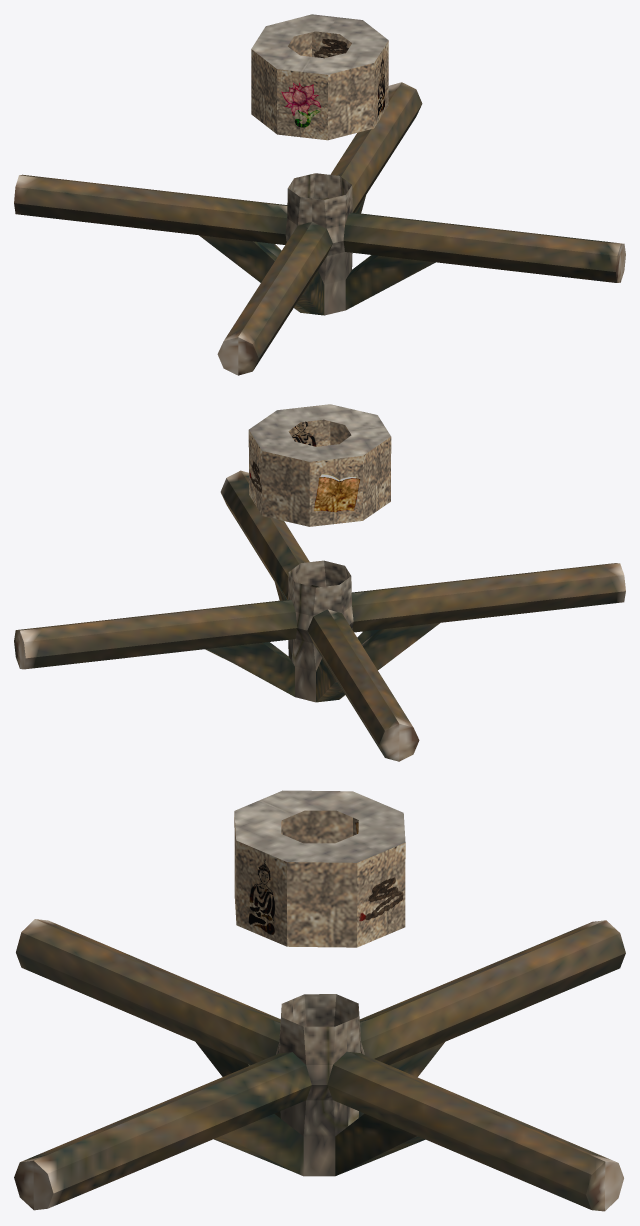
File: f_reel1_part2.fbx
The picture shows the model from 3 angles, top to bottom: view 1: azimuth 30°, elevation 25°; view 2: azimuth 150°, elevation 25°; view 3: azimuth 270°, elevation 25°; orthographic projection. The views are drawn at different scales.
Visible parts, largest first — view 1: f_spin; view 2: f_spin; view 3: f_spin.
Part boxes in pixels (bbox=[...]): f_spin: bbox=[14, 14, 625, 375]; f_spin: bbox=[14, 404, 625, 761]; f_spin: bbox=[14, 790, 625, 1211].
Size of the model in its own units: 541 by 324 by 540.
